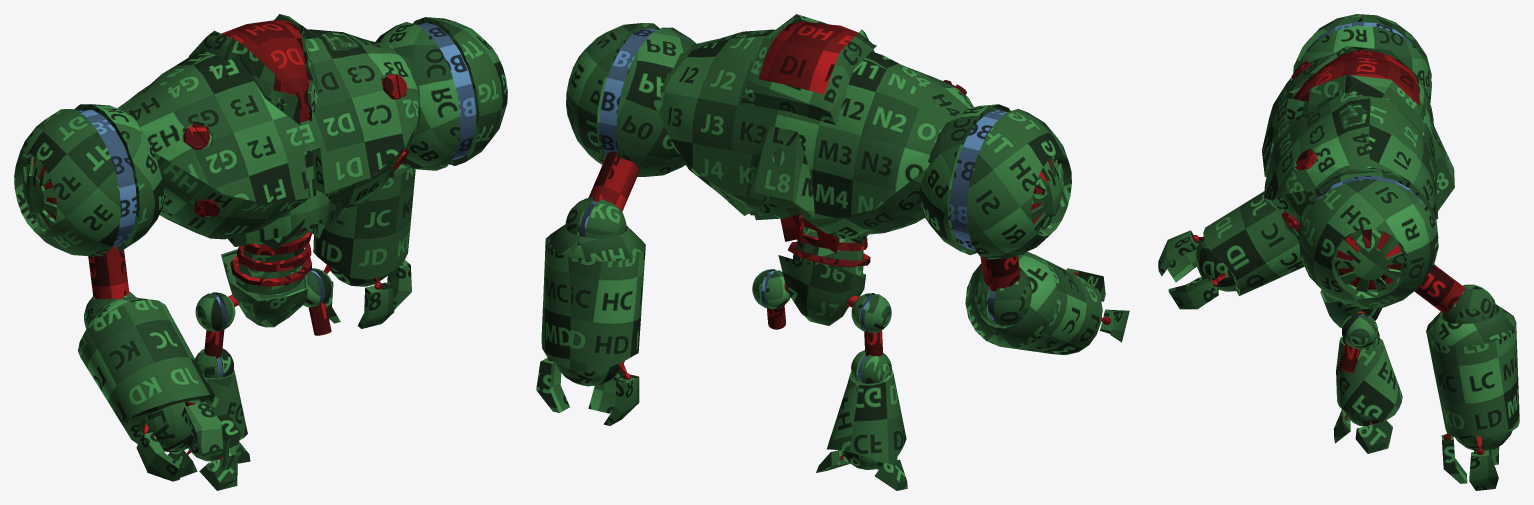
File: Try4.fbx
The picture shows the model from 3 angles, left to right: view 1: azimuth 30°, elevation 25°; view 2: azimuth 150°, elevation 25°; view 3: azimuth 270°, elevation 25°; orthographic projection. The views are drawn at different scales.
Parts seen in each view (by area): view 1: TopTorso, L_Shoulder4, L_Shoulder, R_Forearm, L_Forearm, InnerHead, Stomach, OutSideHead, Pelvis, MiddleTorso, L_Wrist4, L_Bicep4 (+13 smaller); view 2: TopTorso, L_Shoulder4, L_Shoulder, L_Forearm, R_Forearm, L_Shin4, OutSideHead, InnerHead, OuterJetPack, Pelvis, Stomach, L_Elbow4 (+12 smaller); view 3: L_Shoulder, TopTorso, L_Forearm, R_Forearm, L_Shoulder4, OutSideHead, L_Shin4, InnerHead, L_Elbow, L_Bicep, R_Claw3, L_HIp (+10 smaller).
Part boxes in pixels (<box>): TopTorso: <box>117,29,420,239</box>; L_Shoulder4: <box>14,104,165,256</box>; L_Shoulder: <box>375,17,507,170</box>; R_Forearm: <box>78,297,214,443</box>; L_Forearm: <box>313,164,415,279</box>; InnerHead: <box>221,19,309,122</box>; Stomach: <box>230,227,311,294</box>; OutSideHead: <box>188,14,319,124</box>; Pelvis: <box>221,249,307,327</box>; MiddleTorso: <box>228,150,346,246</box>; L_Wrist4: <box>139,400,206,452</box>; L_Bicep4: <box>88,246,129,299</box>; TopTorso: <box>654,29,973,239</box>; L_Shoulder4: <box>919,104,1071,259</box>; L_Shoulder: <box>566,23,696,176</box>; L_Forearm: <box>541,224,645,372</box>; R_Forearm: <box>965,251,1102,355</box>; L_Shin4: <box>827,369,906,464</box>; OutSideHead: <box>740,14,876,125</box>; InnerHead: <box>758,21,858,94</box>; OuterJetPack: <box>746,125,814,217</box>; Pelvis: <box>778,255,865,325</box>; Stomach: <box>788,218,870,276</box>; L_Elbow4: <box>974,270,1031,326</box>; L_Shoulder: <box>1298,167,1438,308</box>; TopTorso: <box>1262,47,1438,236</box>; L_Forearm: <box>1426,304,1519,436</box>; R_Forearm: <box>1203,191,1304,295</box>; L_Shoulder4: <box>1293,14,1431,102</box>; OutSideHead: <box>1284,46,1425,135</box>; L_Shin4: <box>1336,336,1402,422</box>; InnerHead: <box>1291,50,1418,123</box>; L_Elbow: <box>1442,284,1496,323</box>; L_Bicep: <box>1414,264,1465,312</box>; R_Claw3: <box>1168,273,1218,309</box>; L_HIp: <box>1342,313,1377,349</box>.
Size of the model in its own units: 4.95 by 4.47 by 3.65.
Materials: 3 (3 with a texture image).
